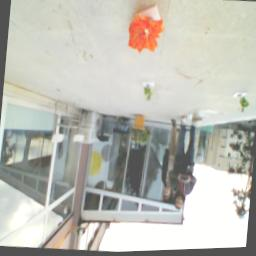herb: (237, 96, 251, 117), (142, 86, 154, 103)
wild: (126, 13, 167, 57)
